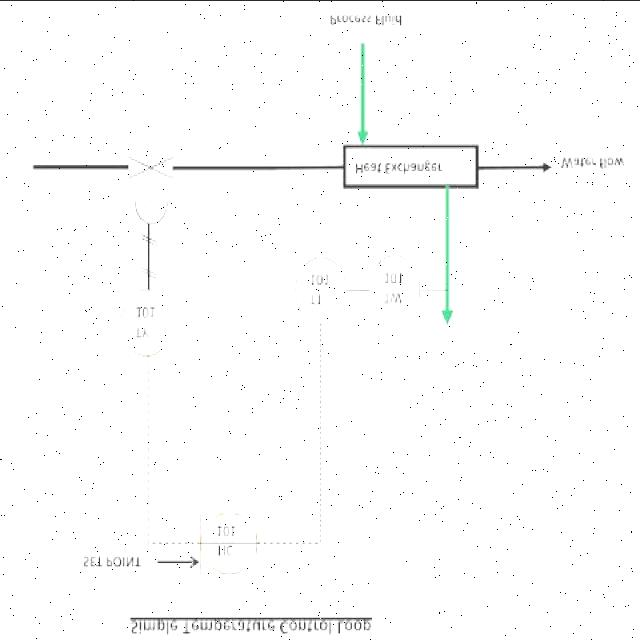Pneumatic-Diaphragm Gate Valve: (108, 154, 182, 230)
